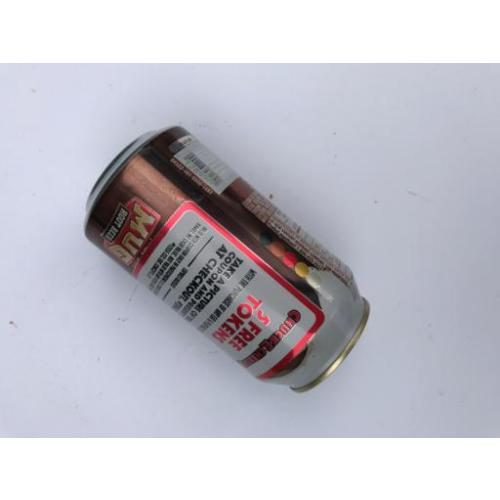metal: (86, 127, 372, 396)
